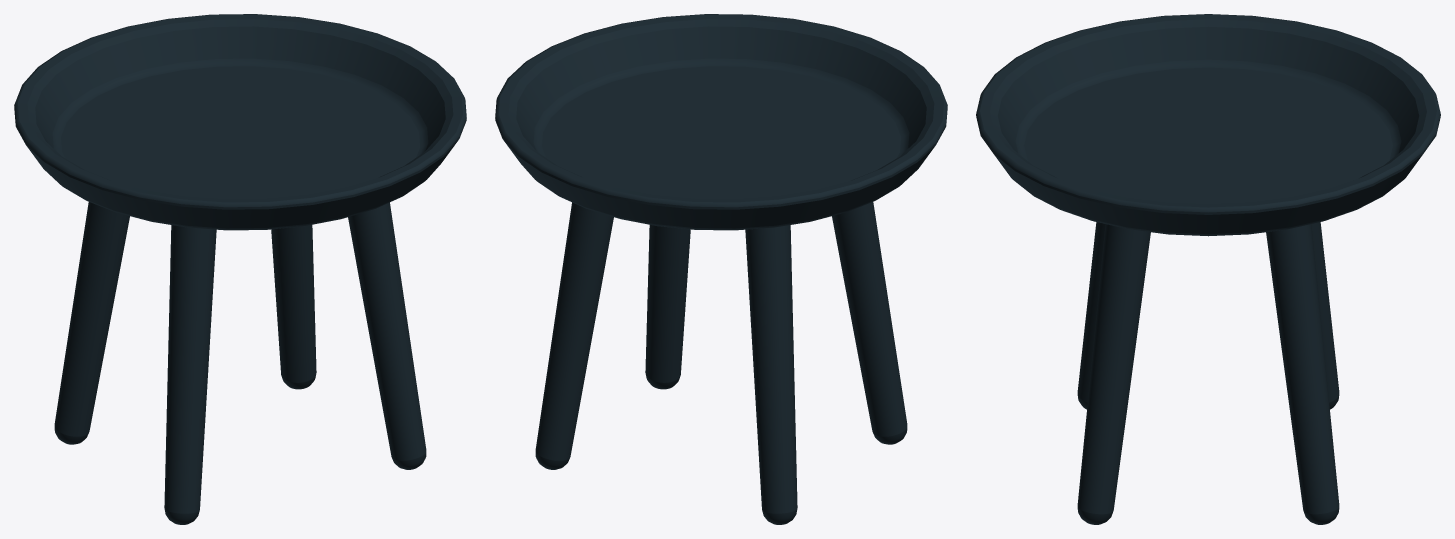
Rendered from Table.fbx.
The picture shows the model from 3 angles, left to right: view 1: azimuth 30°, elevation 25°; view 2: azimuth 150°, elevation 25°; view 3: azimuth 270°, elevation 25°; orthographic projection. The views are drawn at different scales.
Visible parts, largest first — view 1: Cylinder; view 2: Cylinder; view 3: Cylinder.
Boxes of the visible parts, x1,y1,x2,y2 form: Cylinder: [14, 14, 466, 524]; Cylinder: [495, 14, 947, 524]; Cylinder: [976, 14, 1440, 524].
Bounding box in the file's own units: 63.81 × 53.82 × 63.81.
